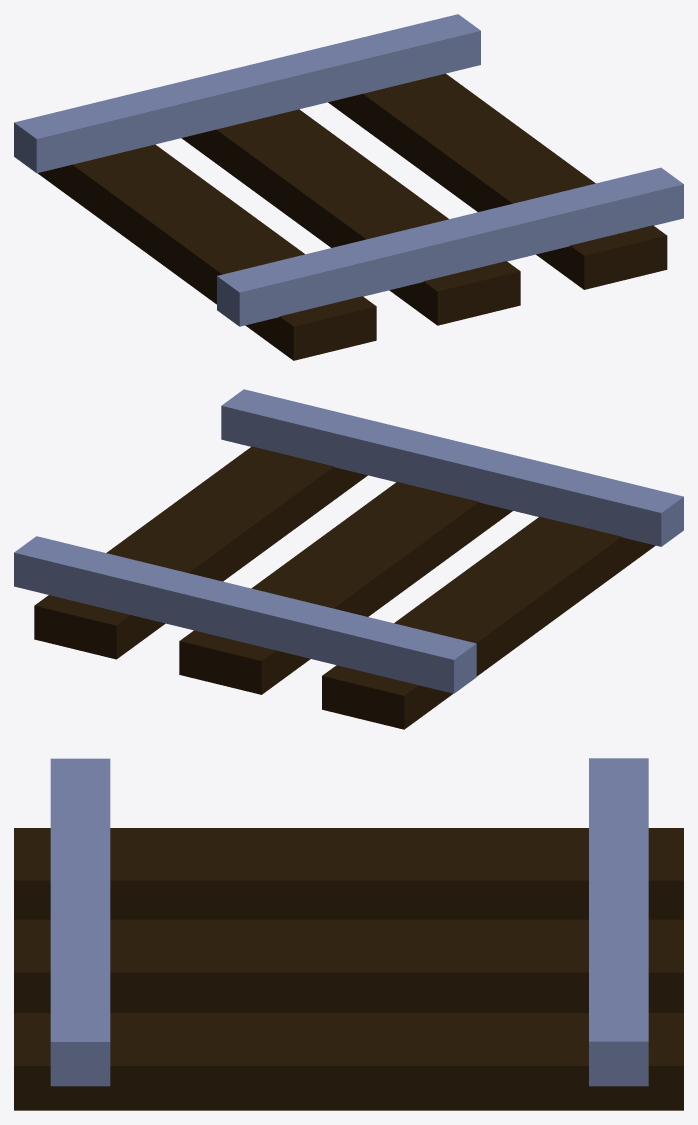
File: track.obj
3 views of the same model, one above another, from view 1: azimuth 30°, elevation 25°; view 2: azimuth 150°, elevation 25°; view 3: azimuth 270°, elevation 25° (orthographic). The views are drawn at different scales.
Visible parts, largest first — view 1: Cube.001, Cube, Cube.002, Cube.003, Cube.004; view 2: Cube.001, Cube, Cube.002, Cube.004, Cube.003; view 3: Cube.003, Cube.004, Cube.002, Cube, Cube.001.
Boxes of the visible parts, x1=… form: Cube.001: x1=14, y1=14, x2=480, y2=173; Cube: x1=217, y1=167, x2=683, y2=326; Cube.002: x1=37, y1=144, x2=376, y2=360; Cube.003: x1=328, y1=73, x2=667, y2=289; Cube.004: x1=181, y1=109, x2=520, y2=325; Cube.001: x1=14, y1=536, x2=476, y2=693; Cube: x1=221, y1=389, x2=683, y2=546; Cube.002: x1=322, y1=516, x2=655, y2=729; Cube.004: x1=179, y1=482, x2=512, y2=694; Cube.003: x1=34, y1=446, x2=367, y2=659; Cube.003: x1=14, y1=1013, x2=683, y2=1110; Cube.004: x1=14, y1=919, x2=683, y2=1012; Cube.002: x1=14, y1=828, x2=683, y2=919; Cube: x1=50, y1=758, x2=110, y2=1086; Cube.001: x1=589, y1=758, x2=648, y2=1086.
Size of the model in its own units: 2.01 by 0.2988 by 2.
